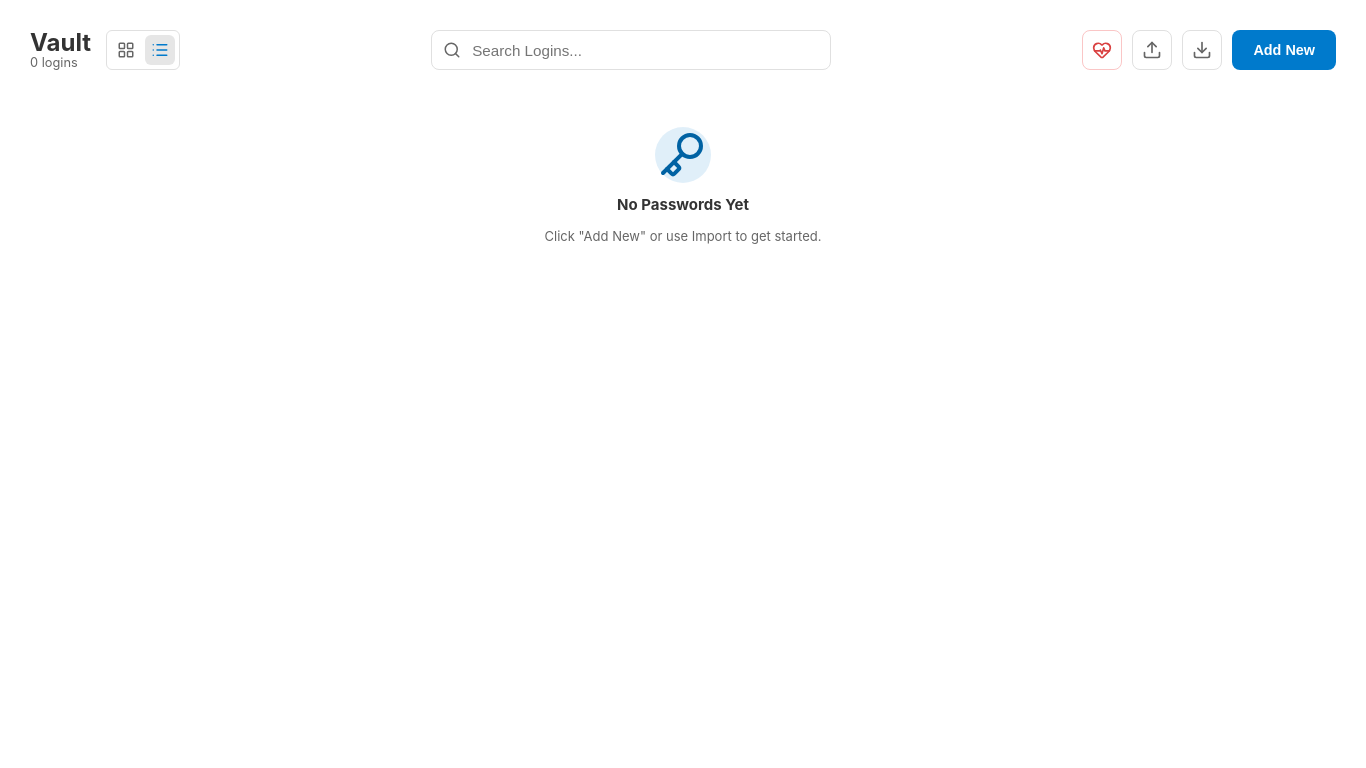
Test: VaultView - adding and editing › requires a service name
Click the button "Add New" at (1284, 50), box [1232, 30, 1336, 70]
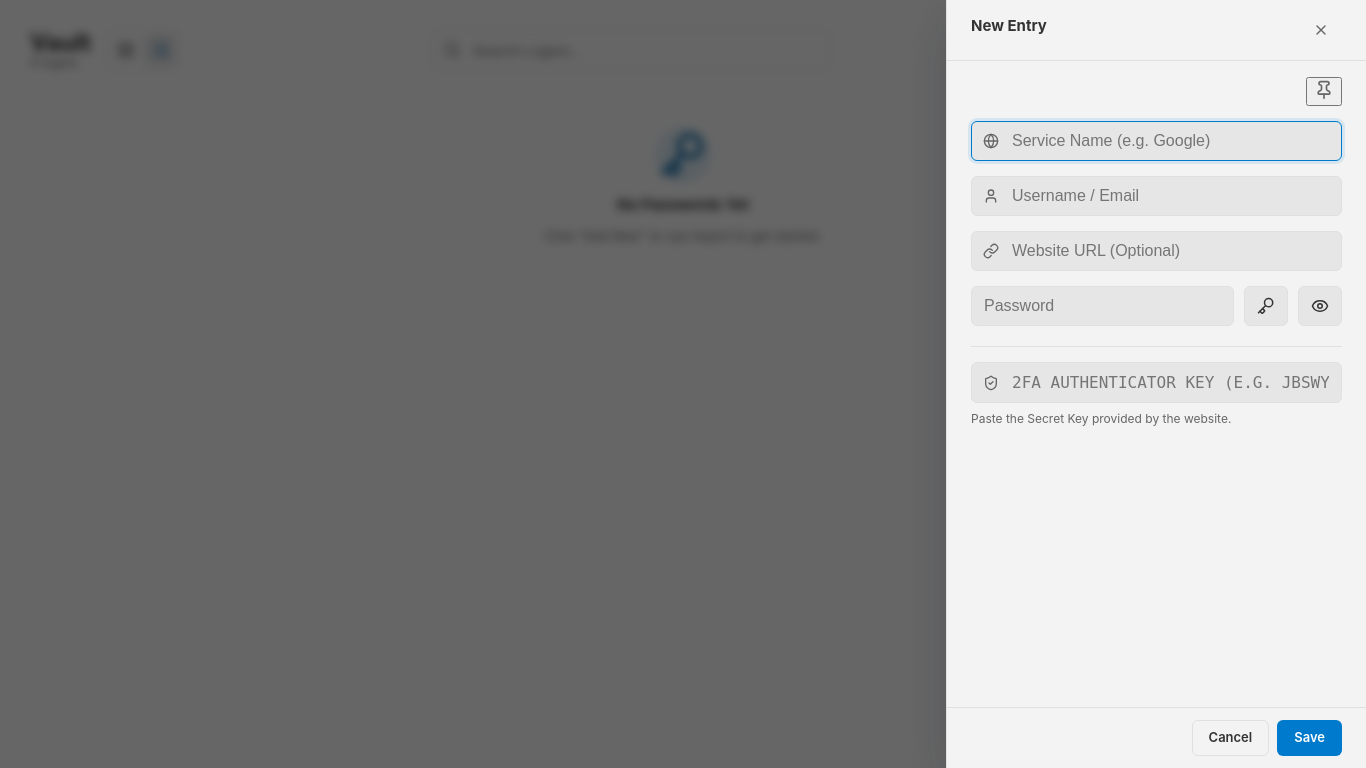
Type "abc" into the password field with placeholder "Password" at (1102, 306), box [971, 286, 1234, 326]
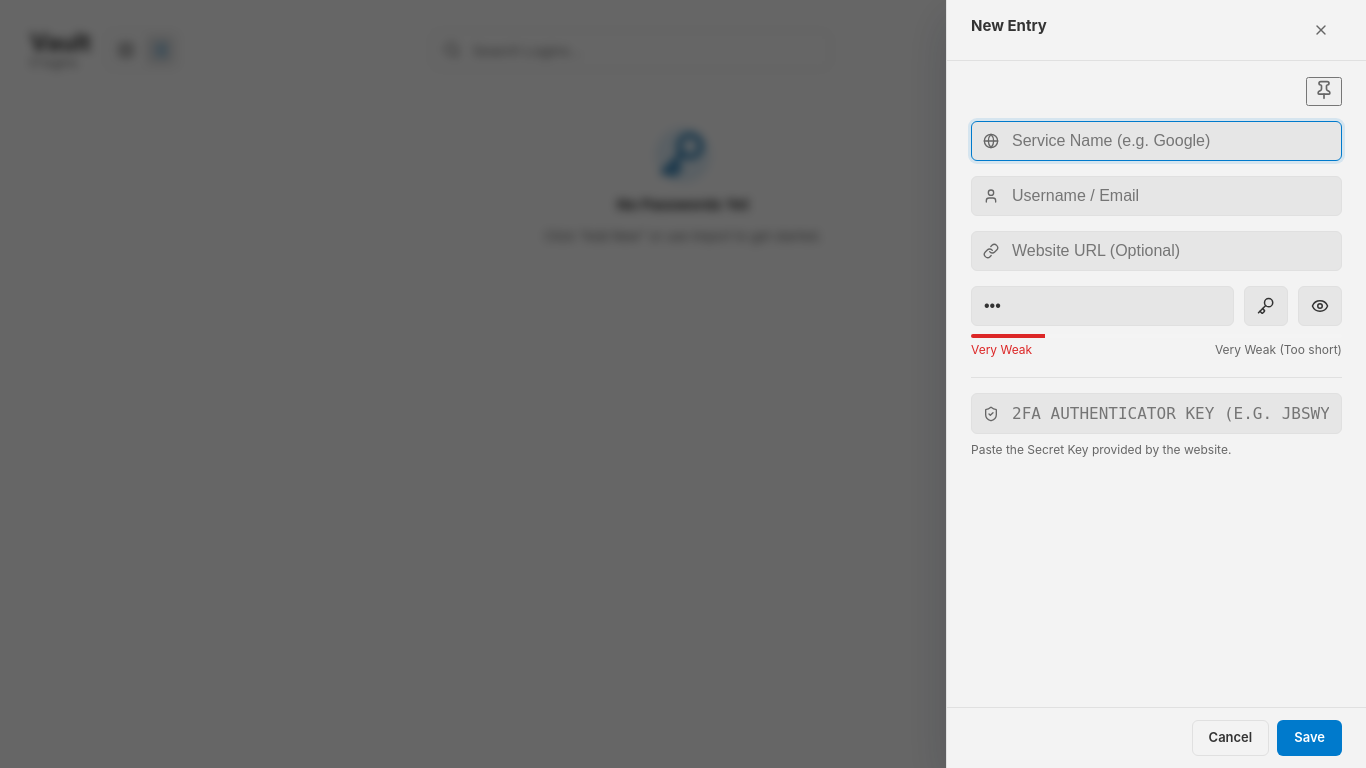
Click the button "Save" at (1310, 738), box [1277, 720, 1342, 756]
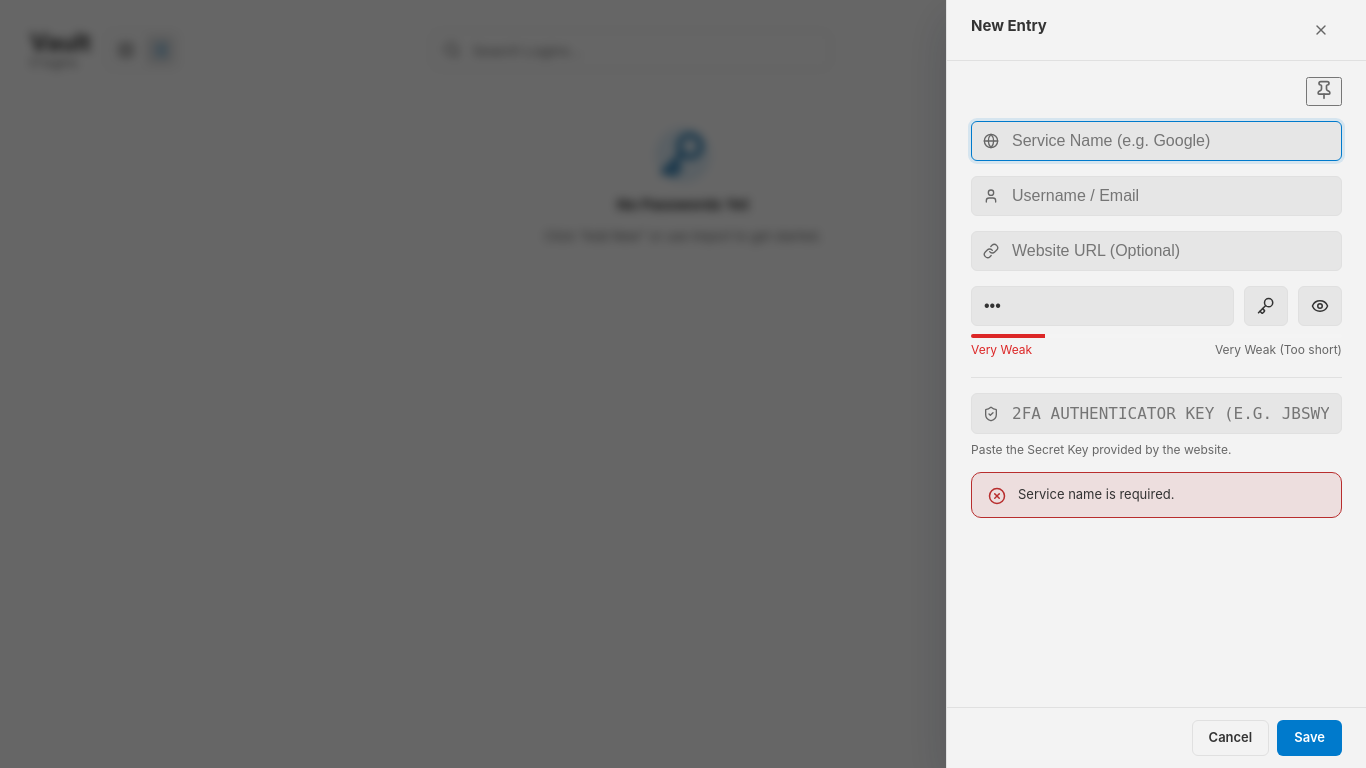
Expected: the heading "New Entry" is shown, [971, 16, 1047, 35]
Expected: the text "Service name is required." is shown, [1018, 486, 1174, 502]
